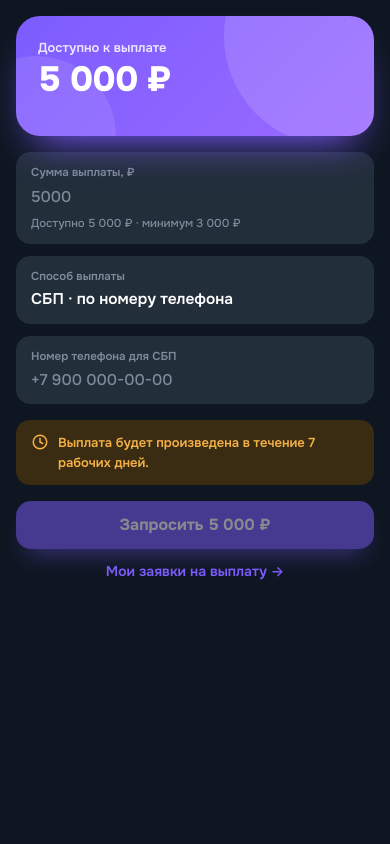
PayoutPage › allows 3,000 ₽ after valid payout details are entered
In the field labelled "Сумма выплаты, ₽": x=195, y=197 [31,186,359,209], type "3000"
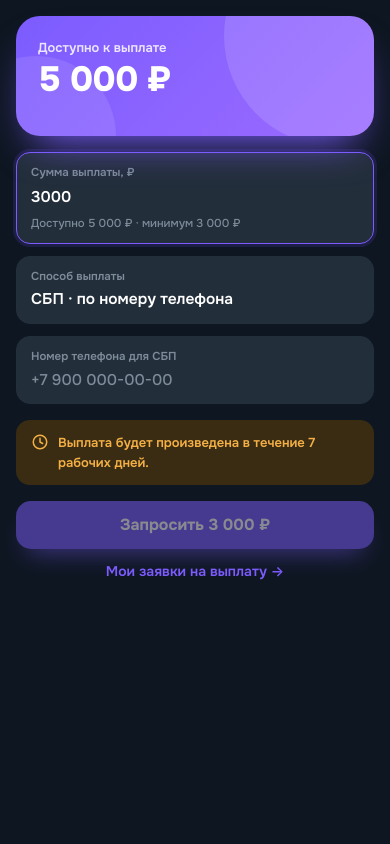
In the field labelled "Номер телефона для СБП": x=195, y=380 [31,369,359,392], type "+79991234567"
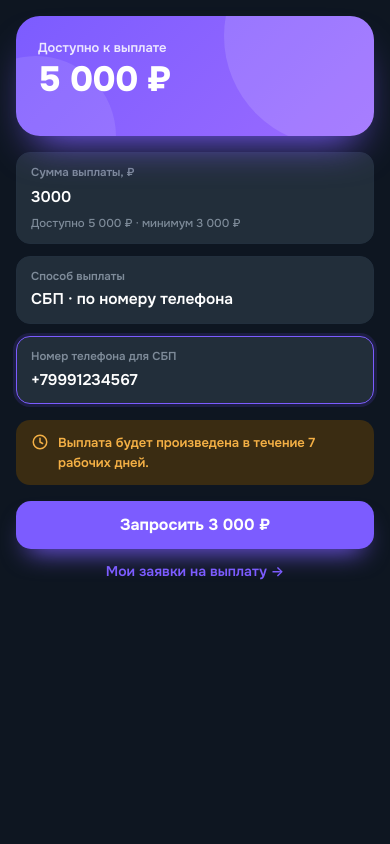
Expected: the text "Выплата будет произведена в течение 7 рабочих дней." is shown, [58,433,359,472]
Expected: the button "Запросить 3 000 ₽" is enabled, [16,501,374,549]
